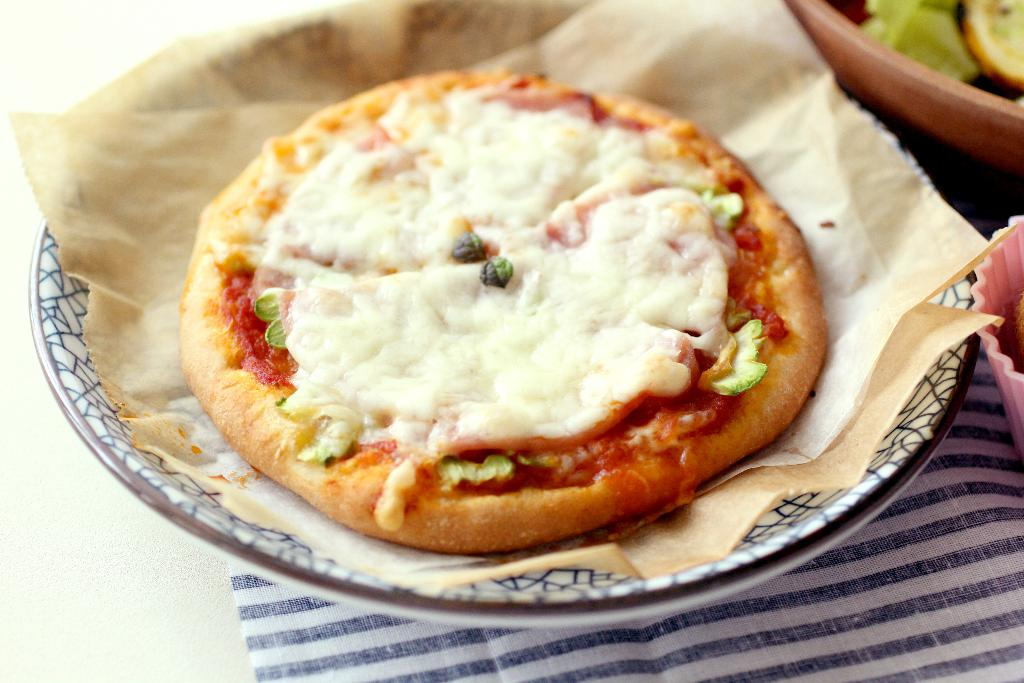Pizza: (170, 101, 816, 555)
